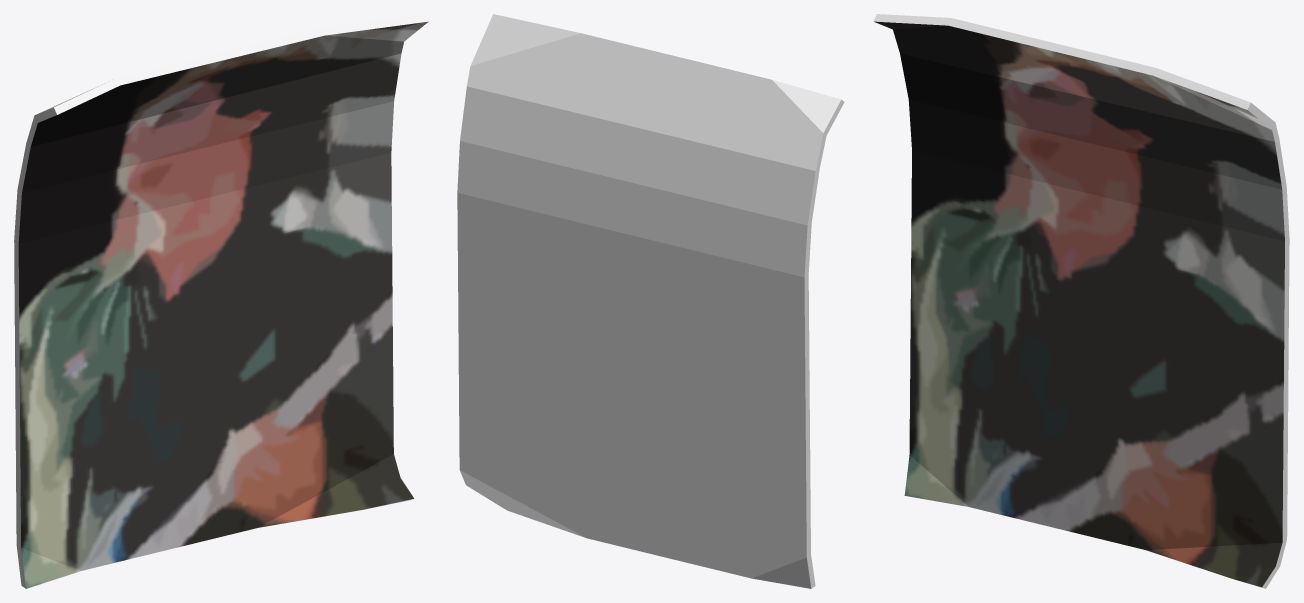
File: poster_2.glb
3 views of the same model, side by side, from view 1: azimuth 30°, elevation 25°; view 2: azimuth 150°, elevation 25°; view 3: azimuth 330°, elevation 25° (orthographic). The views are drawn at different scales.
Parts seen in each view (by area): view 1: Poster 2; view 2: Poster 2; view 3: Poster 2.
Part boxes in pixels (x1,y1,x2,y2): Poster 2: [14, 14, 428, 588]; Poster 2: [457, 14, 844, 588]; Poster 2: [873, 14, 1289, 588].
Size of the model in its own units: 0.3809 by 0.4989 by 0.0762.
Materials: 2 (2 with a texture image).
